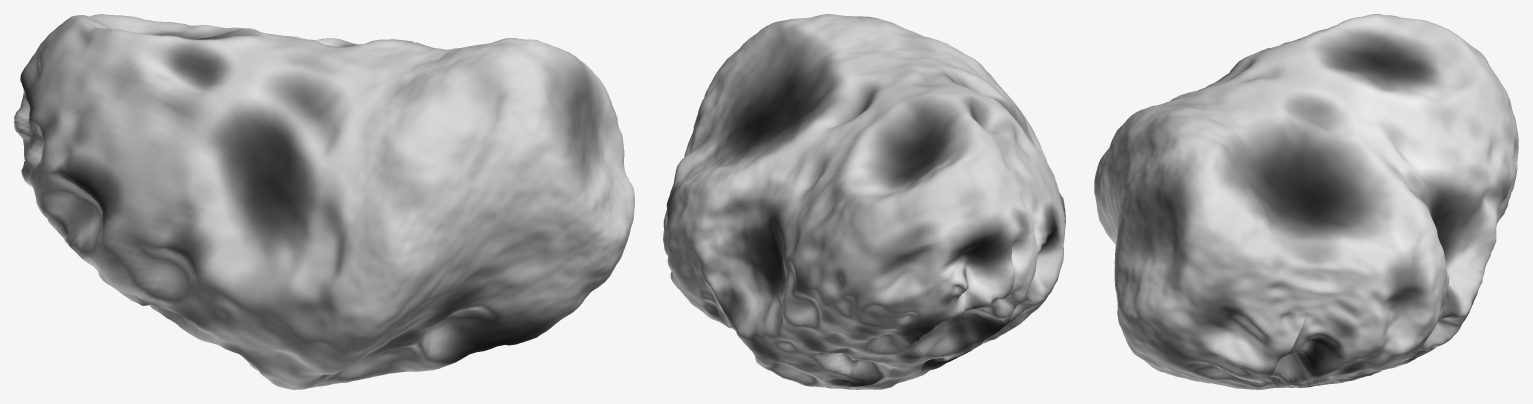
File: asteroids3.fbx
3 renders of one model, left to right at view 1: azimuth 30°, elevation 25°; view 2: azimuth 150°, elevation 25°; view 3: azimuth 270°, elevation 25°, orthographic. The views are drawn at different scales.
Parts seen in each view (by area): view 1: asteroid3; view 2: asteroid3; view 3: asteroid3.
Boxes of the visible parts, box(x1,y1,x2,y2) form: asteroid3: box(14, 14, 634, 389); asteroid3: box(663, 14, 1065, 389); asteroid3: box(1094, 14, 1518, 389).
Bounding box in the file's own units: 221 × 156 × 204.
